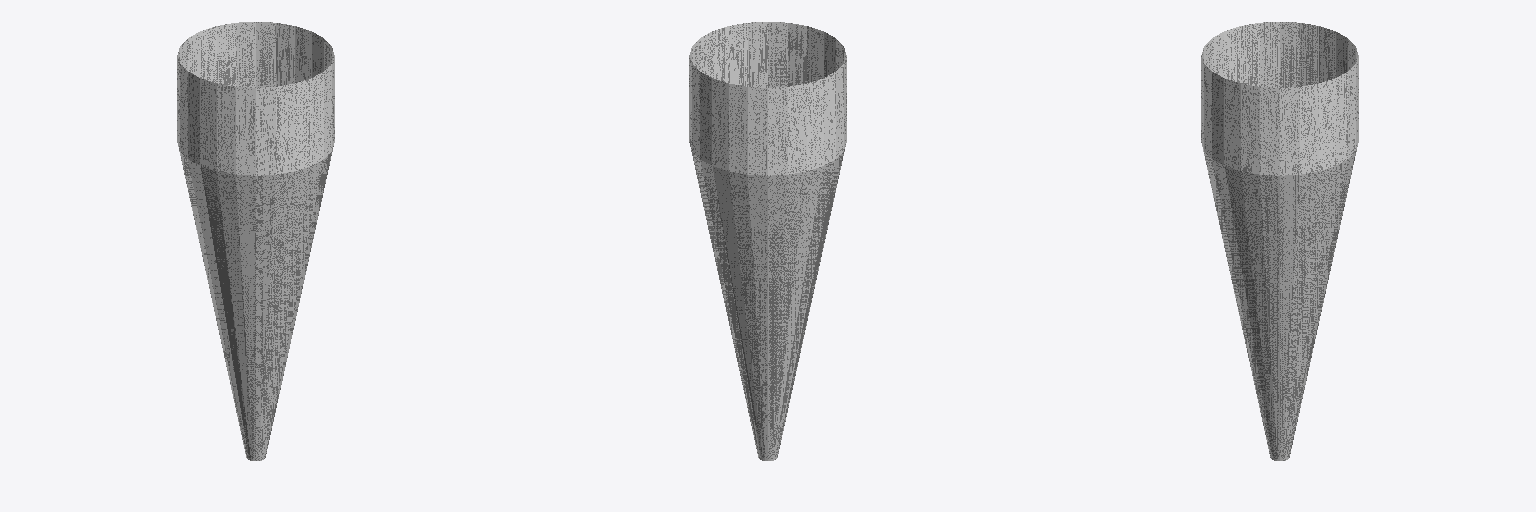
File: original-16.obj
The picture shows the model from 3 angles: view 1: azimuth 30°, elevation 25°; view 2: azimuth 150°, elevation 25°; view 3: azimuth 270°, elevation 25°; orthographic projection.
Parts seen in each view (by area): view 1: 3dw.59a07a01d7c3fdb03c1d9add3a87bd2d/Model/mesh1/mesh1-geometry/; view 2: 3dw.59a07a01d7c3fdb03c1d9add3a87bd2d/Model/mesh1/mesh1-geometry/; view 3: 3dw.59a07a01d7c3fdb03c1d9add3a87bd2d/Model/mesh1/mesh1-geometry/.
Boxes of the visible parts, <box> form: 3dw.59a07a01d7c3fdb03c1d9add3a87bd2d/Model/mesh1/mesh1-geometry/: <box>177,22,334,460</box>; 3dw.59a07a01d7c3fdb03c1d9add3a87bd2d/Model/mesh1/mesh1-geometry/: <box>689,22,846,460</box>; 3dw.59a07a01d7c3fdb03c1d9add3a87bd2d/Model/mesh1/mesh1-geometry/: <box>1201,22,1358,460</box>.
Size of the model in its own units: 0.0148 by 0.0418 by 0.0148.